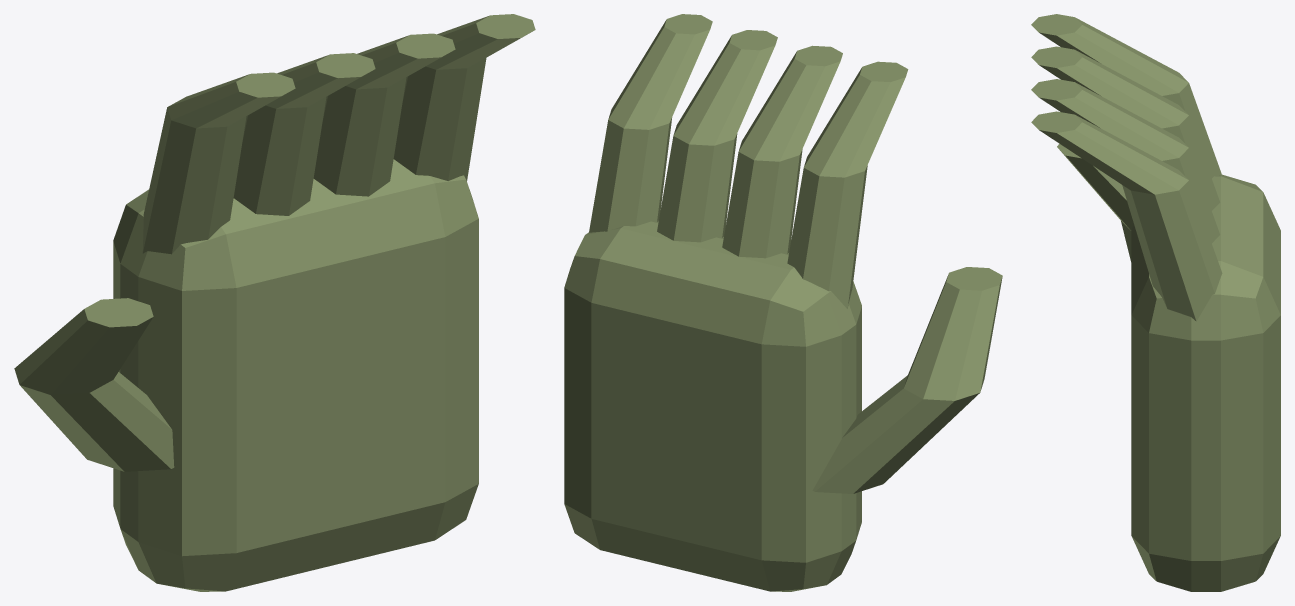
Rendered from Hand.fbx.
The picture shows the model from 3 angles, left to right: view 1: azimuth 30°, elevation 25°; view 2: azimuth 150°, elevation 25°; view 3: azimuth 270°, elevation 25°; orthographic projection. The views are drawn at different scales.
Parts seen in each view (by area): view 1: palm, thumb, finger, finger.003, finger.002, finger.001; view 2: palm, thumb, finger, finger.003, finger.001, finger.002; view 3: palm, finger.003, finger, finger.001, finger.002, thumb.
Boxes of the visible parts, <box> form: palm: <box>113,159,478,591</box>; thumb: <box>14,298,174,471</box>; finger: <box>142,72,295,254</box>; finger.003: <box>393,14,535,180</box>; finger.002: <box>313,33,455,196</box>; finger.001: <box>233,53,375,215</box>; palm: <box>564,221,861,591</box>; thumb: <box>812,267,1002,493</box>; finger: <box>787,61,908,308</box>; finger.003: <box>589,14,712,232</box>; finger.001: <box>722,45,842,258</box>; finger.002: <box>657,30,777,242</box>; palm: <box>1131,174,1280,591</box>; finger.003: <box>1031,111,1222,321</box>; finger: <box>1031,14,1222,178</box>; finger.001: <box>1031,46,1220,210</box>; finger.002: <box>1031,79,1220,243</box>; thumb: <box>1057,144,1133,261</box>.
Size of the model in its own units: 10.55 by 12.25 by 5.85.
